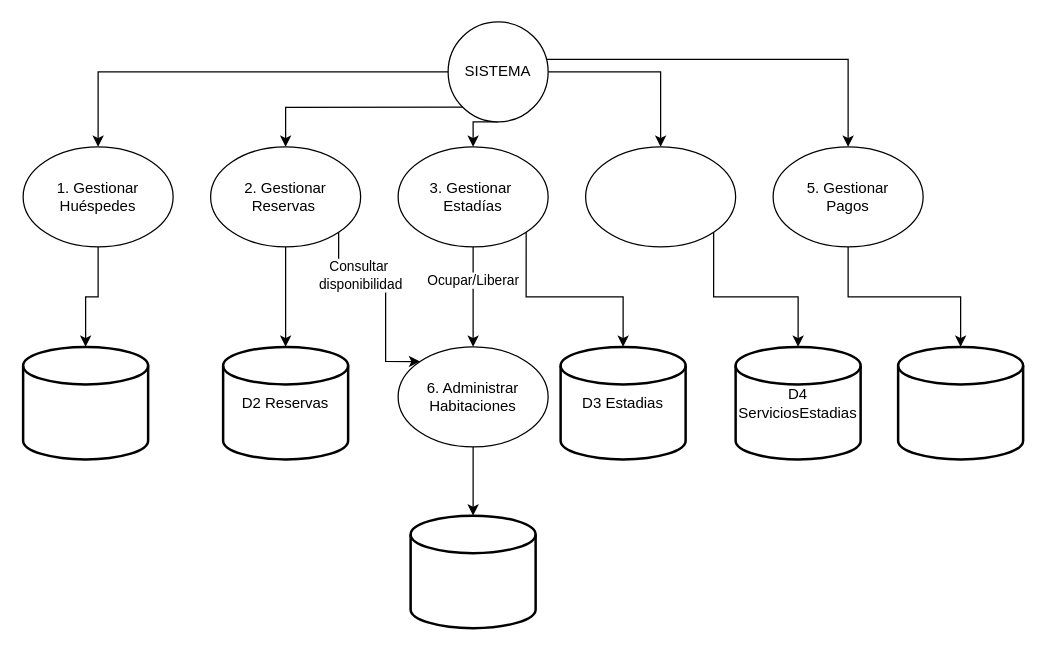
Image size: 1045x651. Some labels were removed from this diagram. Each missing label, with the centre of its shape:
"4.Registrar Consumos" belongs at pixel 660 196.
"D1 Huespedes" belongs at pixel 85 402.
"D5 Pagos" belongs at pixel 960 402.
"D6 Habitaciones" belongs at pixel 472 571.
